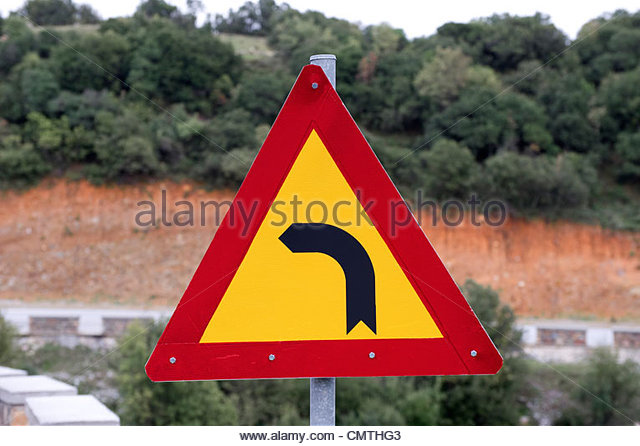Bend_to_left: (136, 63, 510, 385)
